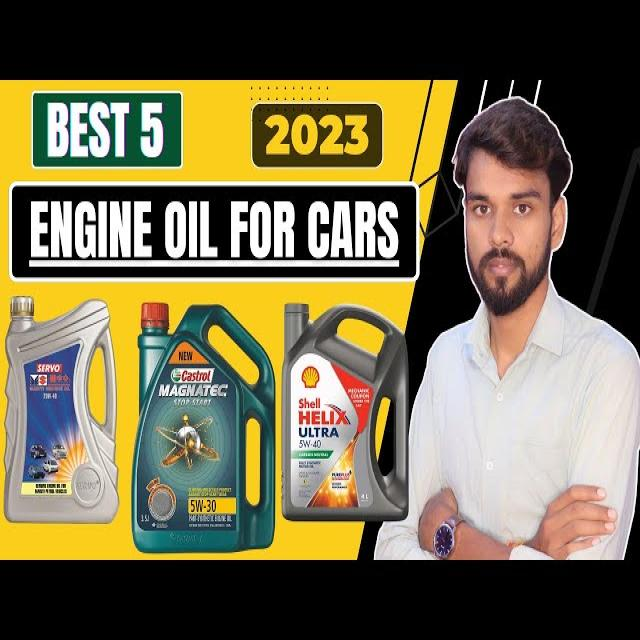motor_oil: (131, 295, 276, 555), (276, 299, 410, 525), (5, 297, 114, 523)
